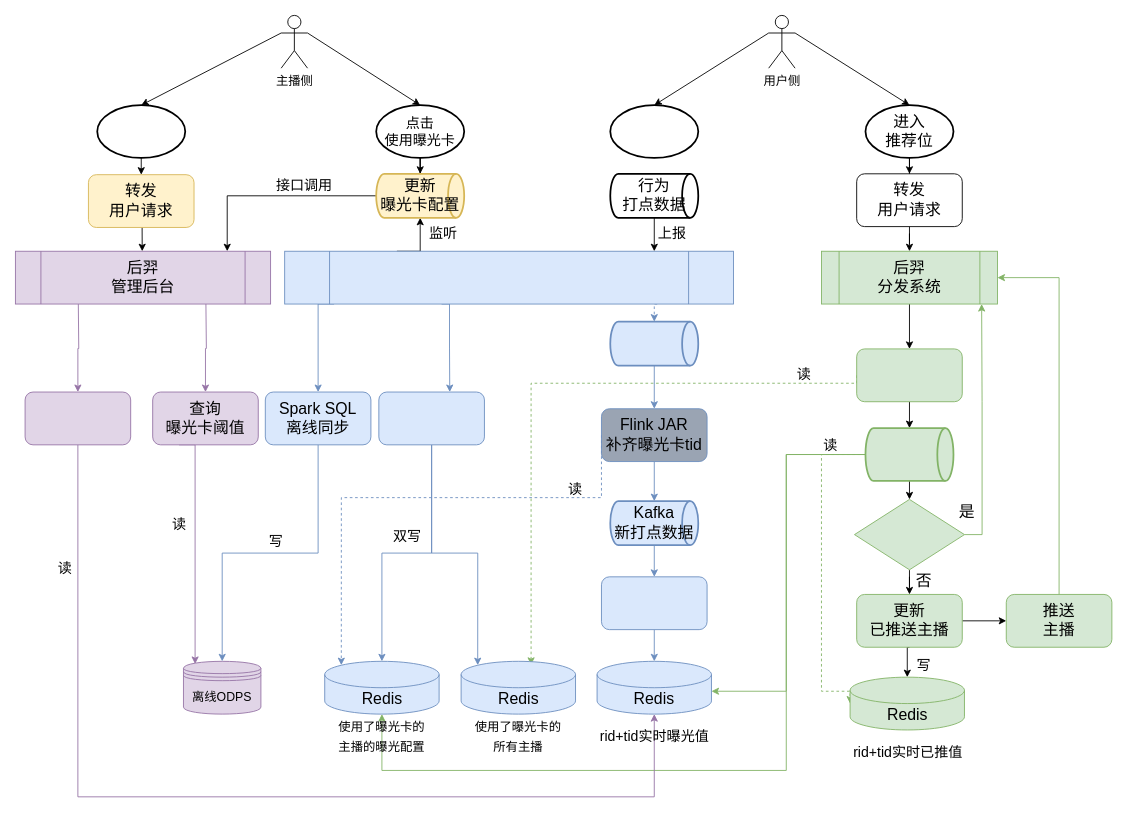
Some shapes in this 1127 by 819 pixel diagram are drawn without their labels. The shapes that lost their labels are listed below. From the top down, each one's centre as x and y in pixels, then its label:
At pixel 141 131: "查看 曝光卡进度".
At pixel 654 131: "查看 主播列表".
At pixel 508 277: "玄武平台".
At pixel 654 343: "Kafka 打点数据".
At pixel 909 375: "查询 备选主播池".
At pixel 77 418: "查询 实时曝光值".
At pixel 431 418: "Flink SQL 计算曝光阈值".
At pixel 909 454: "主播 曝光数据".
At pixel 909 534: "是否 曝光达标".
At pixel 654 603: "Flink SQL 计算实时曝光".
